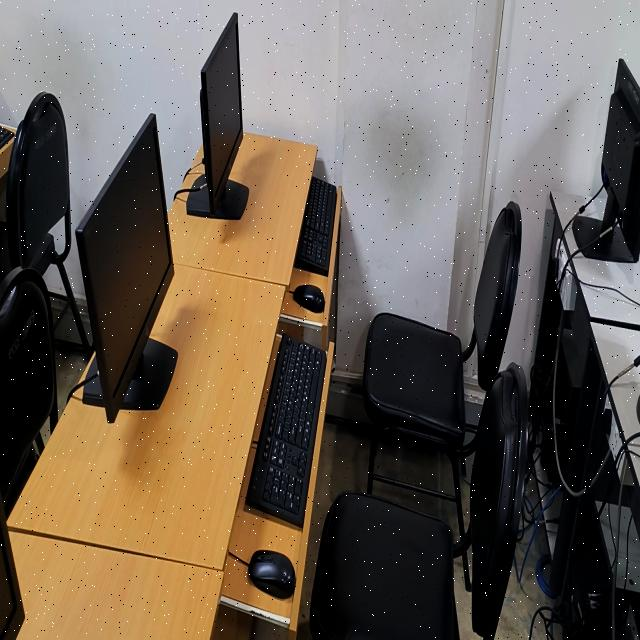Chair: (363, 203, 521, 493), (310, 492, 459, 640), (467, 364, 527, 640), (6, 93, 72, 303), (0, 268, 56, 501)
Cpu: (619, 598, 640, 640)
Keyboard: (246, 335, 327, 526), (295, 177, 336, 275)
Monitor: (76, 116, 177, 423), (572, 60, 640, 262), (188, 13, 249, 219), (0, 489, 24, 640)
Mouse: (248, 550, 296, 599), (294, 284, 325, 313)
